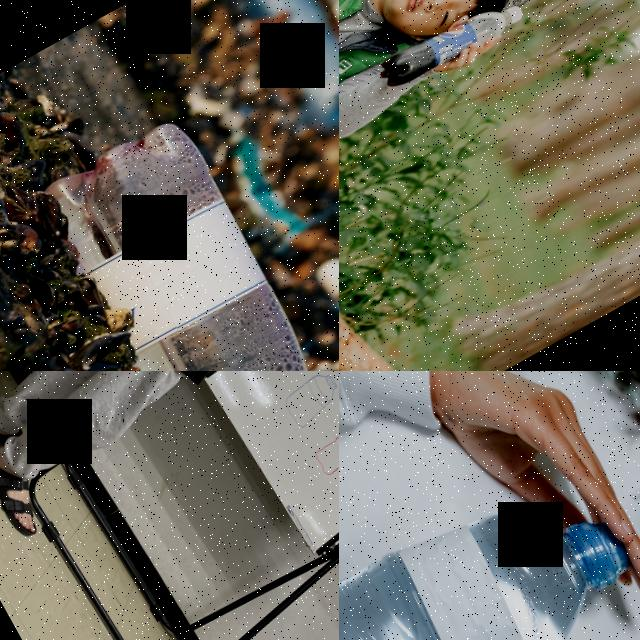bottle: (339, 435, 640, 640), (372, 0, 528, 97)
